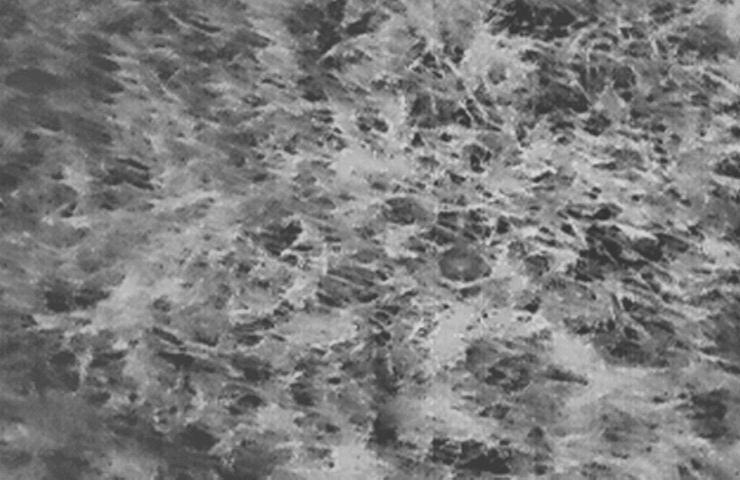landmines: (432, 236, 498, 293)
